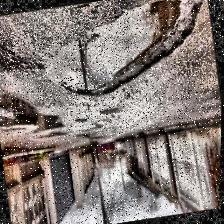pothole: (38, 0, 214, 104), (0, 80, 66, 140)
